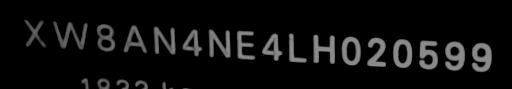letter: (49, 17, 89, 52), (120, 21, 150, 56), (310, 30, 338, 67), (21, 15, 49, 50), (205, 26, 233, 61), (152, 21, 178, 58), (364, 34, 390, 71), (179, 24, 205, 59), (284, 30, 310, 65), (389, 35, 415, 70), (468, 40, 494, 75), (234, 26, 258, 61), (260, 30, 284, 65), (442, 39, 466, 74), (340, 32, 362, 69), (94, 20, 118, 53), (416, 38, 440, 71)
